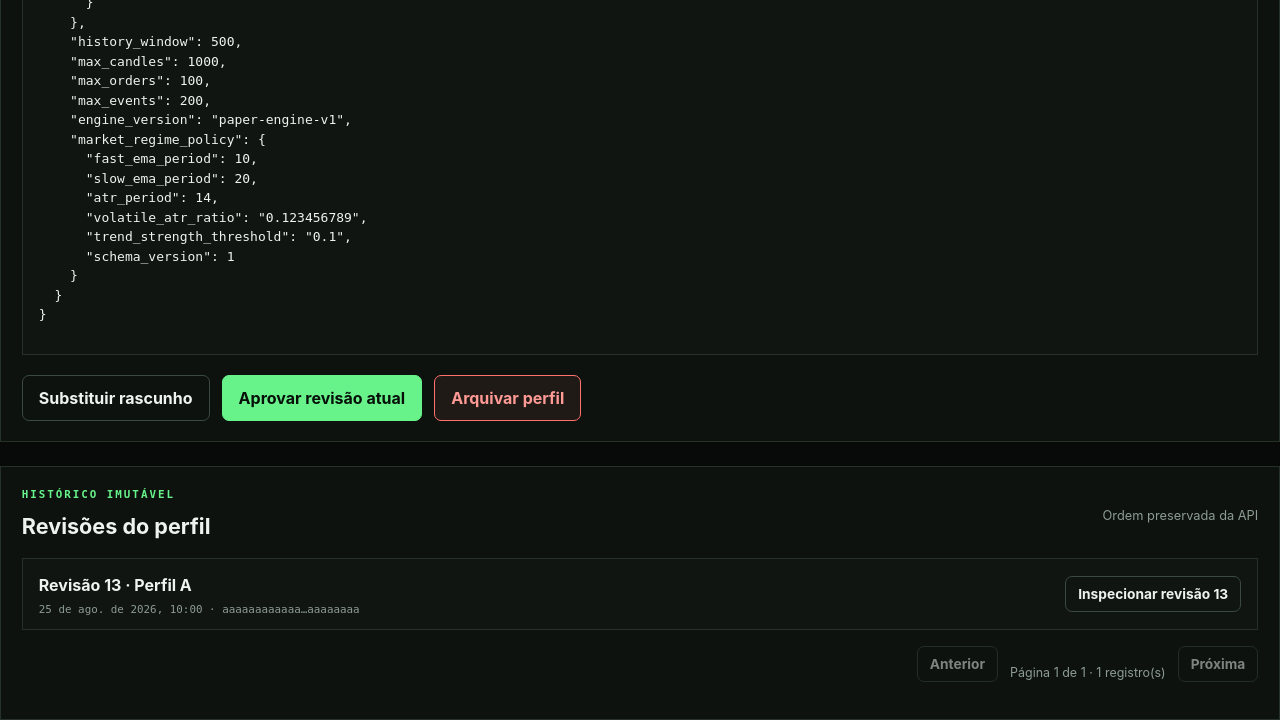
Test case: perfis administrativos de sessão paper › em conflito limpa snapshot, recarrega autoridade e não tenta novamente
(page scrolled)
Click the button "Aprovar revisão atual". click: click(322, 398)
box: 222,375 -> 422,420
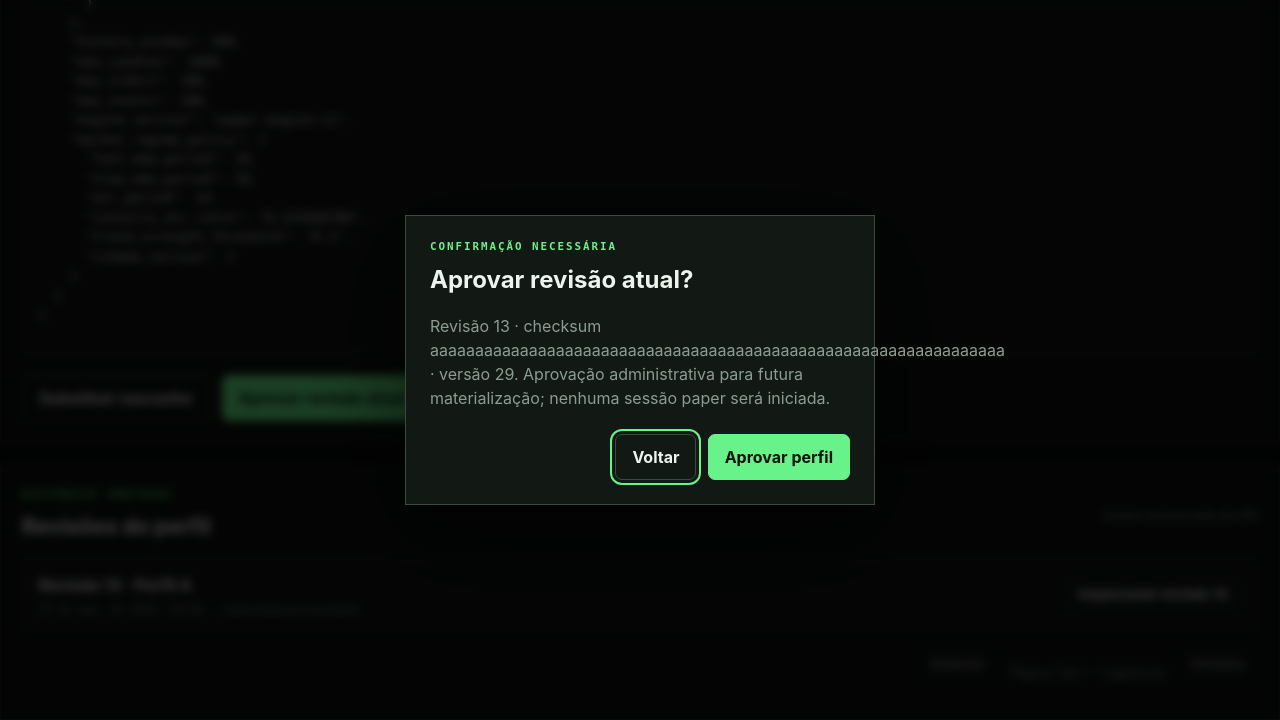
Click the button "Aprovar perfil". click: click(779, 457)
box: 708,434 -> 850,480
(page scrolled)
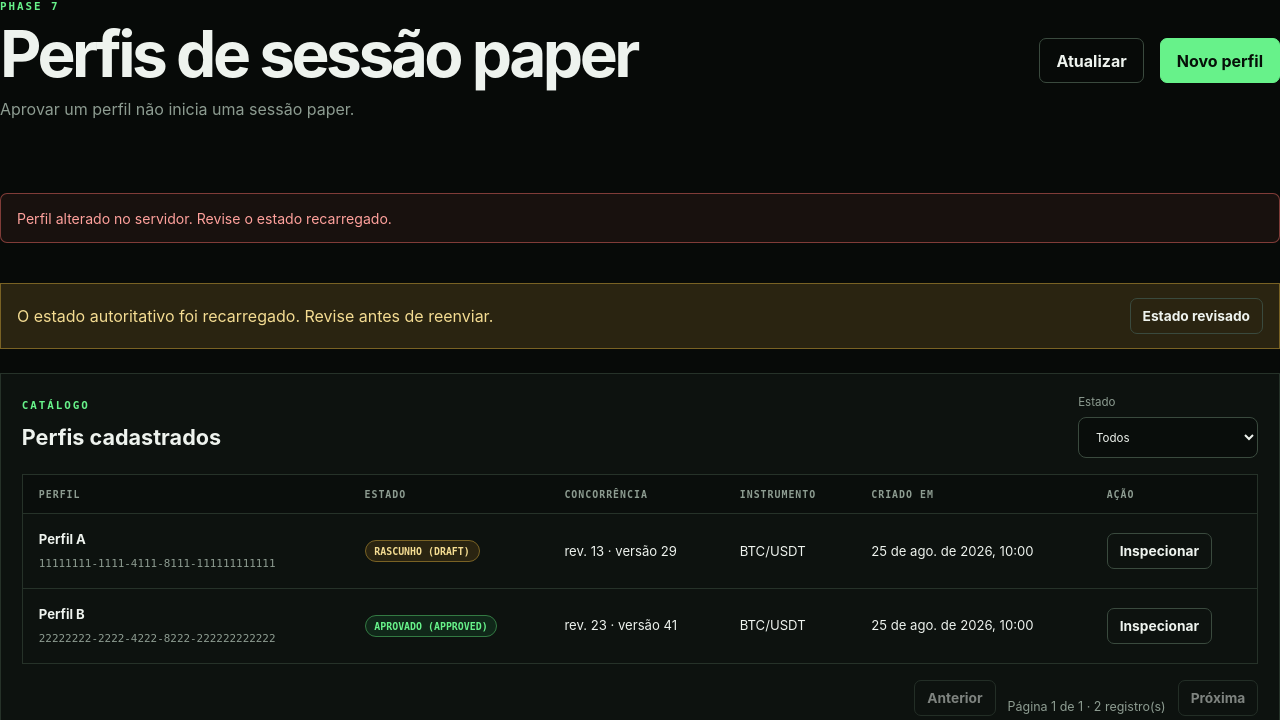
Expected: the text "estado autoritativo foi recarregado" is shown, 17,306 -> 493,326
Expected: the dialog is gone
